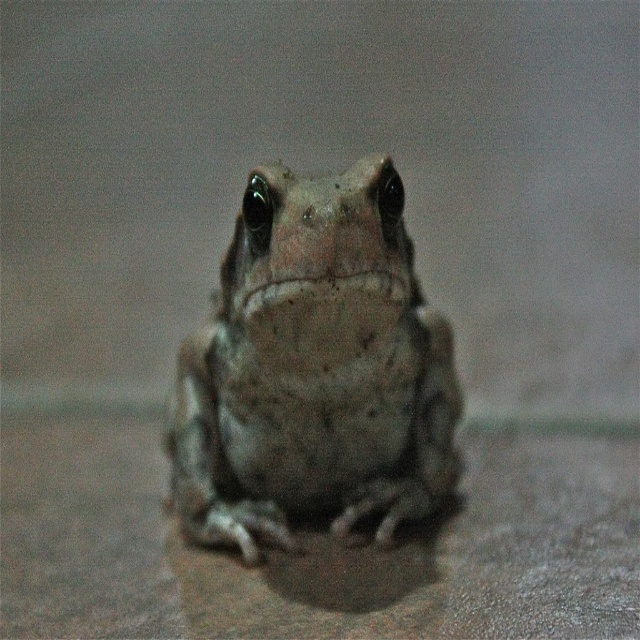Frog: (159, 150, 465, 567)
